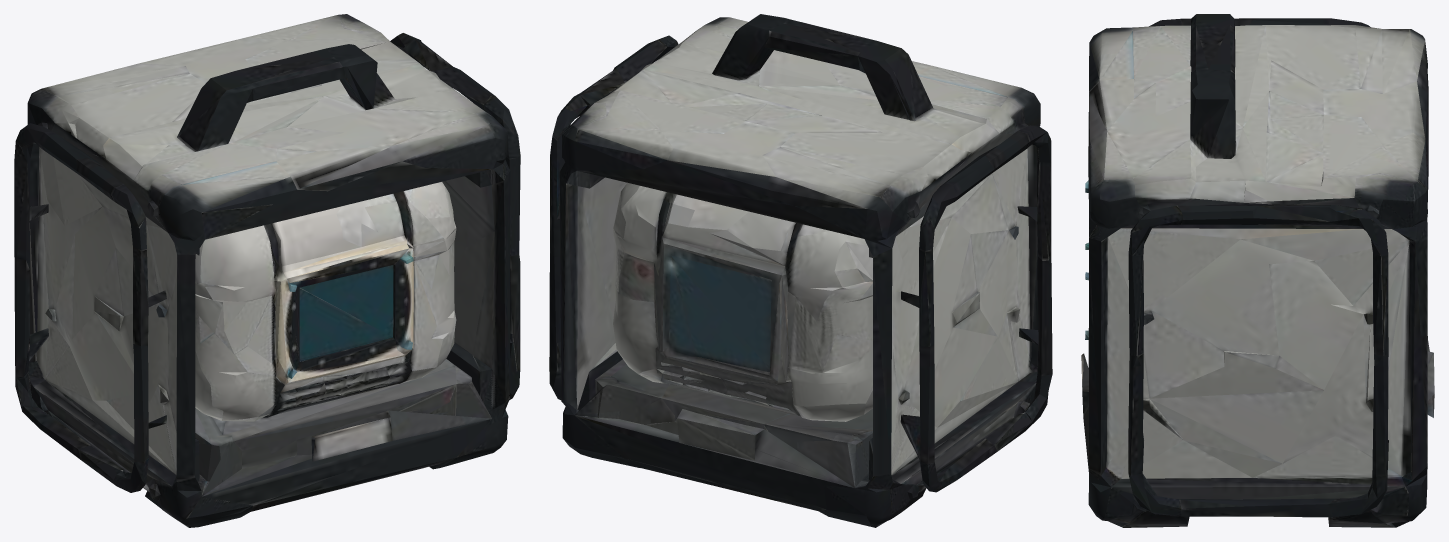
File: spe_cryo.glb
The picture shows the model from 3 angles, left to right: view 1: azimuth 30°, elevation 25°; view 2: azimuth 150°, elevation 25°; view 3: azimuth 270°, elevation 25°; orthographic projection. The views are drawn at different scales.
Bounding box in the file's own units: 1.9 × 1.86 × 1.46.
1 material, 1 textured.
